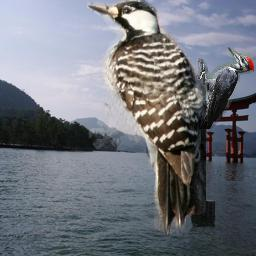Woodpecker: (87, 0, 206, 237), (198, 47, 254, 129)
